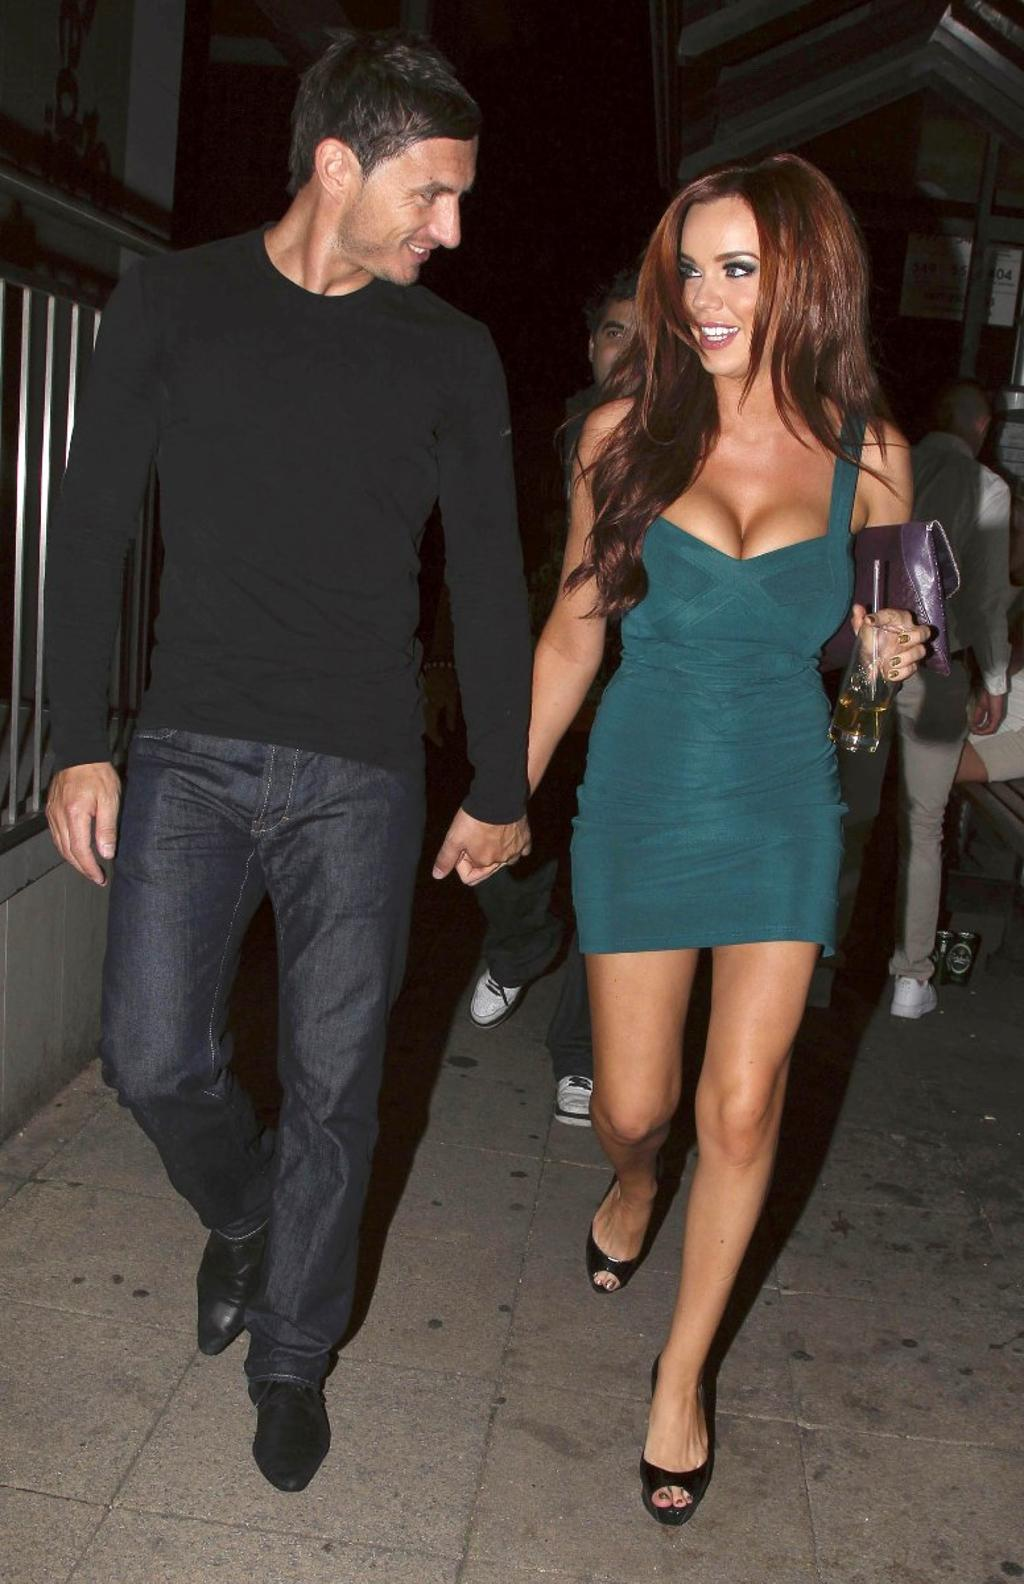face: (674, 198, 801, 371), (356, 127, 474, 285), (594, 300, 668, 396)
